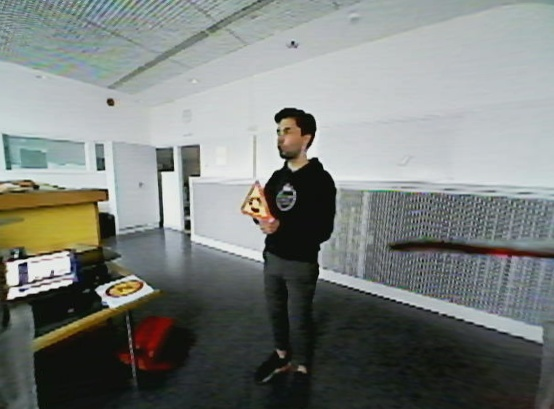roundabout_warning: (233, 177, 276, 225)
